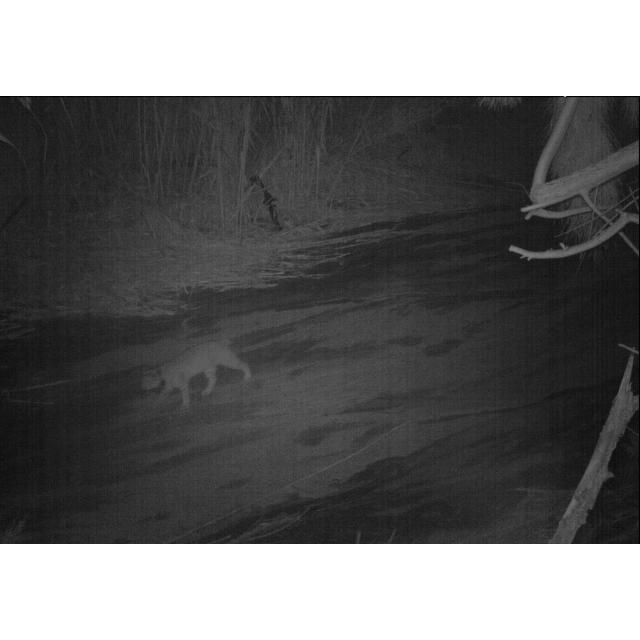animals: (142, 314, 268, 416)
